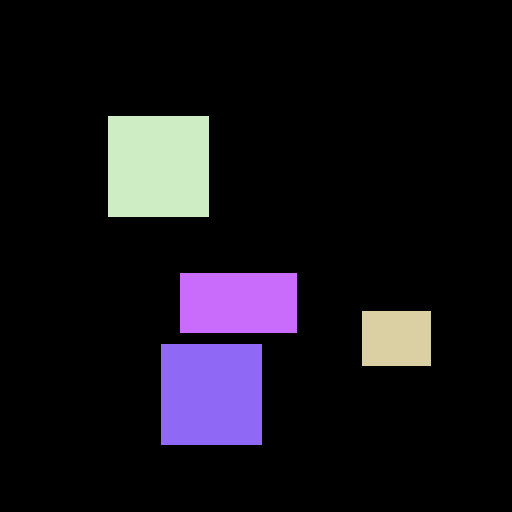rectangle: (180, 273, 296, 332), (362, 311, 430, 365)
square: (161, 344, 261, 444), (108, 116, 208, 216)
